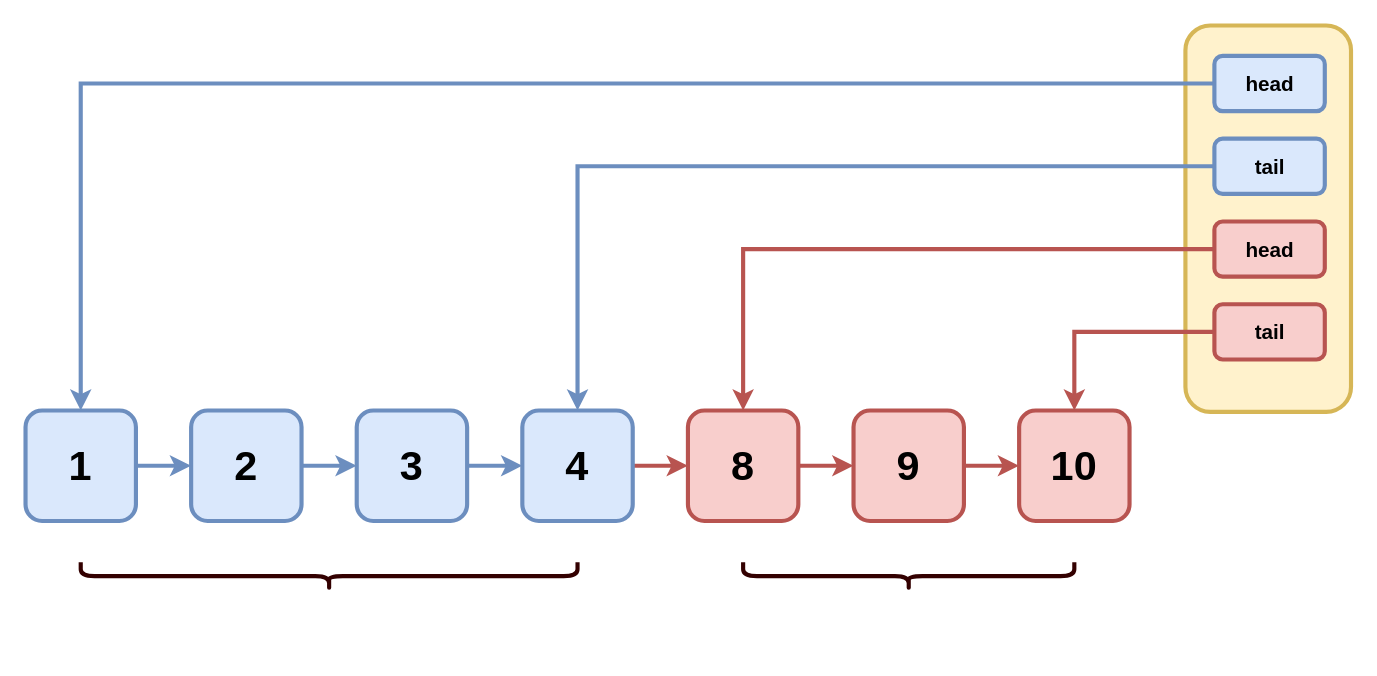
This 1377x676 diagram has some shape labels left out. Each missing label, with the centre of its shape:
"old" belongs at pixel 908 575.
"young" belongs at pixel 328 575.
